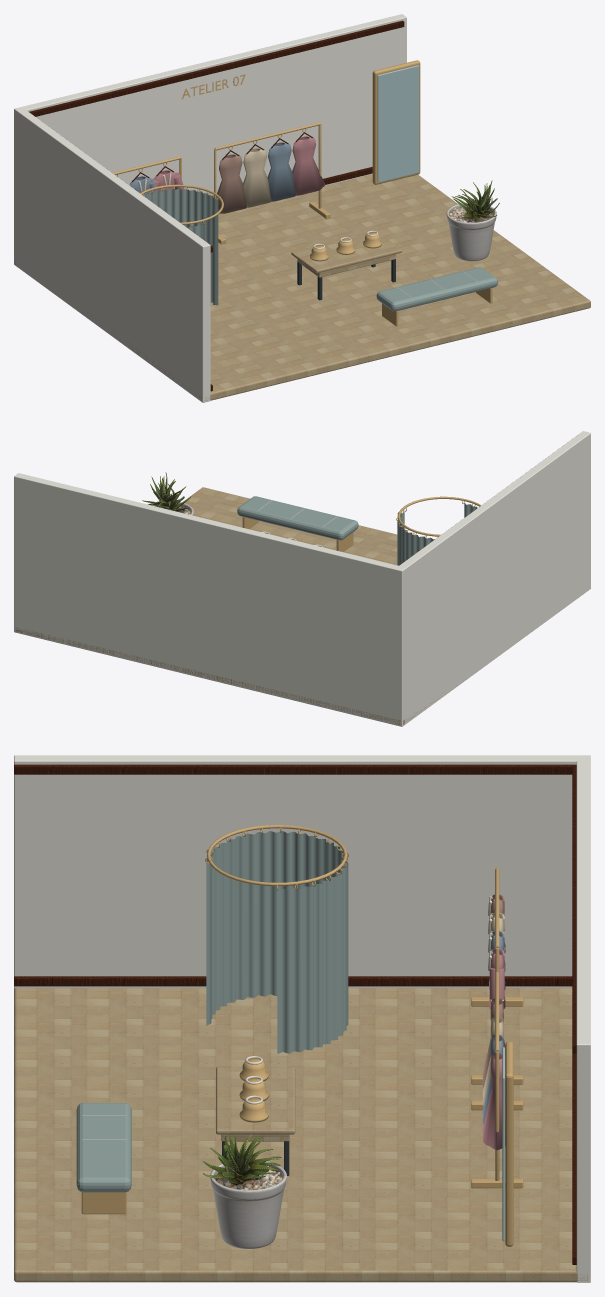
Rendered from fashion_boutique.glb.
The picture shows the model from 3 angles, top to bottom: view 1: azimuth 30°, elevation 25°; view 2: azimuth 150°, elevation 25°; view 3: azimuth 270°, elevation 25°; orthographic projection. The views are drawn at different scales.
Parts seen in each view (by area): view 1: RefinedSurface_Ivory plaster, RefinedSurface_Limestone, RefinedSurface_Upholstery, Boutique_Mirror, RefinedSurface_Brass, RefinedSurface_Warm oak, Refined_BoutiquePlant, RefinedSurface_Fashion fabric 3, RefinedSurface_Fashion fabric 2, RefinedSurface_Fashion fabric 0, RefinedSurface_Fashion fabric 1; view 2: RefinedSurface_Ivory plaster, RefinedSurface_Limestone, RefinedSurface_Upholstery, Refined_BoutiquePlant, RefinedSurface_Brass; view 3: RefinedSurface_Limestone, RefinedSurface_Ivory plaster, RefinedSurface_Upholstery, RefinedSurface_Warm oak, RefinedSurface_Brass, Refined_BoutiquePlant, RefinedSurface_Fashion fabric 3, RefinedSurface_Paper.
Boxes of the visible parts, x1,y1,x2,y2 form: RefinedSurface_Ivory plaster: (14, 14, 406, 402); RefinedSurface_Limestone: (15, 174, 590, 400); RefinedSurface_Upholstery: (144, 188, 497, 311); Boutique_Mirror: (377, 65, 419, 182); RefinedSurface_Brass: (112, 60, 492, 326); RefinedSurface_Warm oak: (29, 20, 404, 391); Refined_BoutiquePlant: (446, 180, 499, 261); RefinedSurface_Fashion fabric 3: (149, 136, 325, 195); RefinedSurface_Fashion fabric 2: (129, 142, 295, 201); RefinedSurface_Fashion fabric 0: (216, 154, 246, 213); RefinedSurface_Fashion fabric 1: (128, 148, 271, 207); RefinedSurface_Ivory plaster: (14, 431, 590, 726); RefinedSurface_Limestone: (15, 487, 457, 725); RefinedSurface_Upholstery: (237, 496, 477, 565); Refined_BoutiquePlant: (142, 472, 193, 515); RefinedSurface_Brass: (242, 496, 481, 551); RefinedSurface_Limestone: (14, 988, 587, 1282); RefinedSurface_Ivory plaster: (14, 755, 590, 1282); RefinedSurface_Upholstery: (76, 831, 348, 1192); RefinedSurface_Warm oak: (14, 764, 576, 1264); RefinedSurface_Brass: (81, 825, 523, 1246); Refined_BoutiquePlant: (202, 1134, 286, 1248); RefinedSurface_Fashion fabric 3: (482, 949, 505, 1150); RefinedSurface_Paper: (81, 896, 504, 1164).
Size of the model in its own units: 9.5 by 3.65 by 8.
13 materials, 3 textured.
